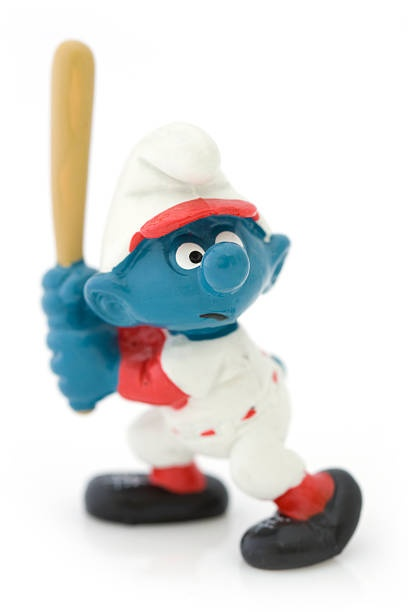bita: (50, 29, 108, 301)
